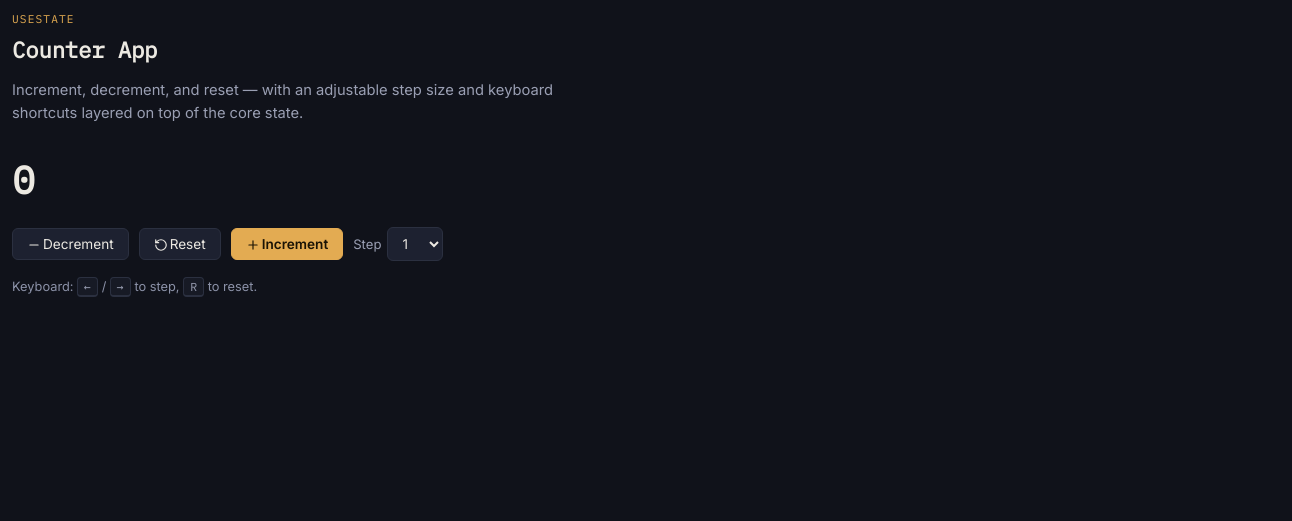
Task5_CounterApp › resets the count to 0
Step 1. Click the button "Increment" → (287, 244), box [231,228,343,260]
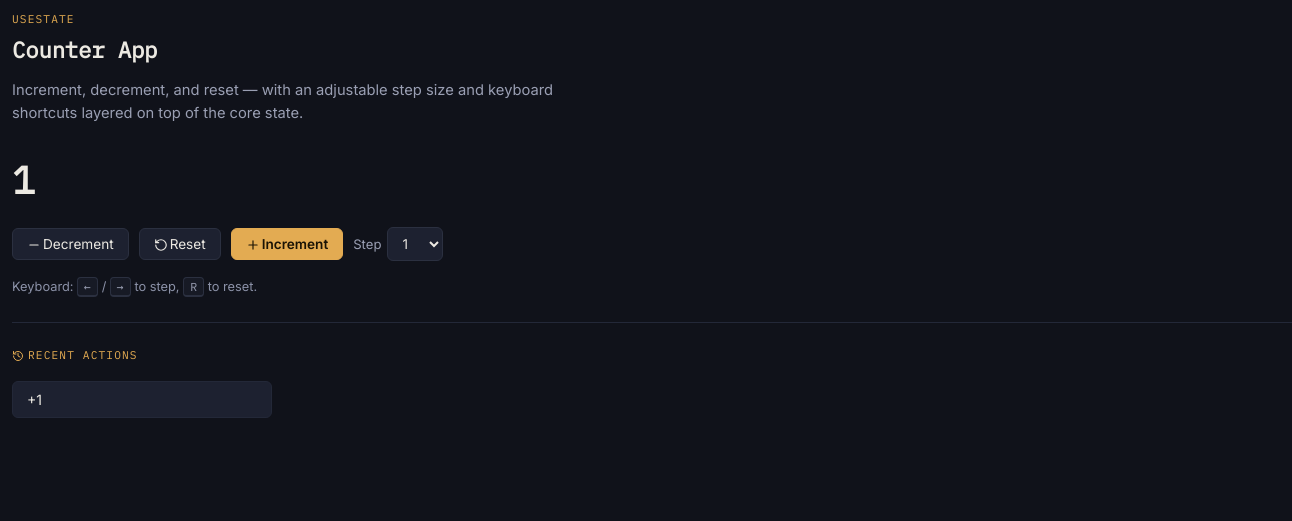
Step 2. Click the button "Increment" → (287, 244), box [231,228,343,260]
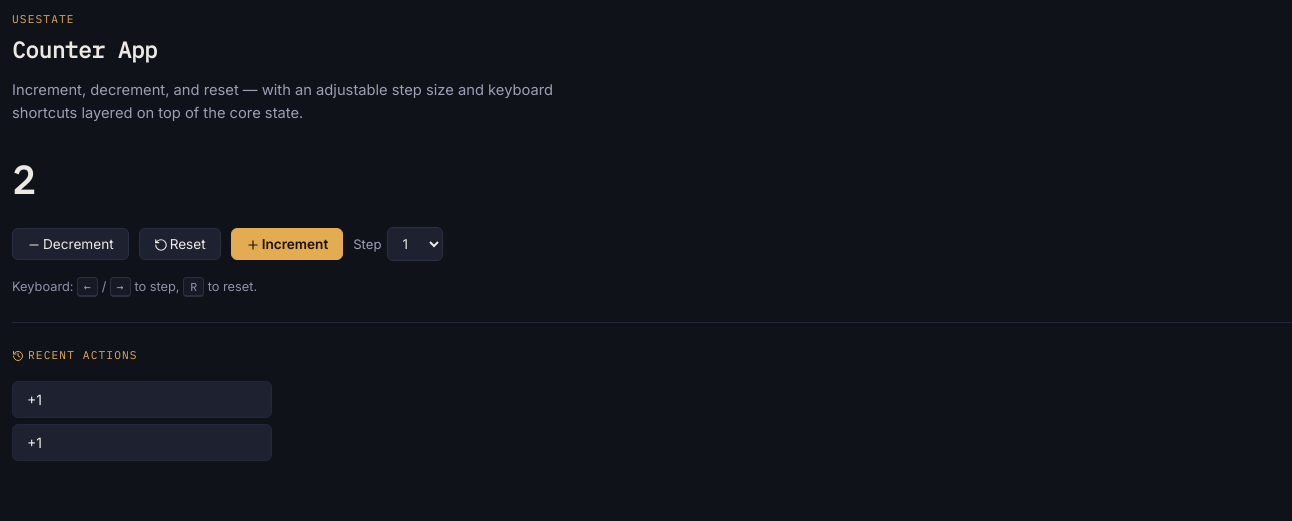
Step 3. Click the button "Reset" → (180, 244), box [139,228,221,260]
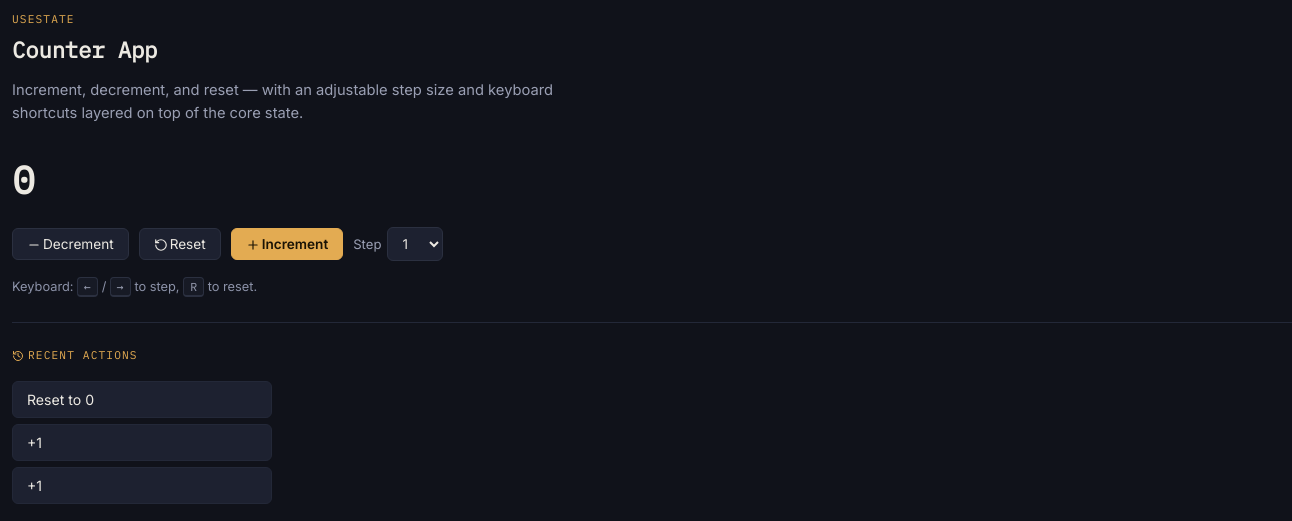
Check: the text "0" is shown, box [12,155,35,205]
